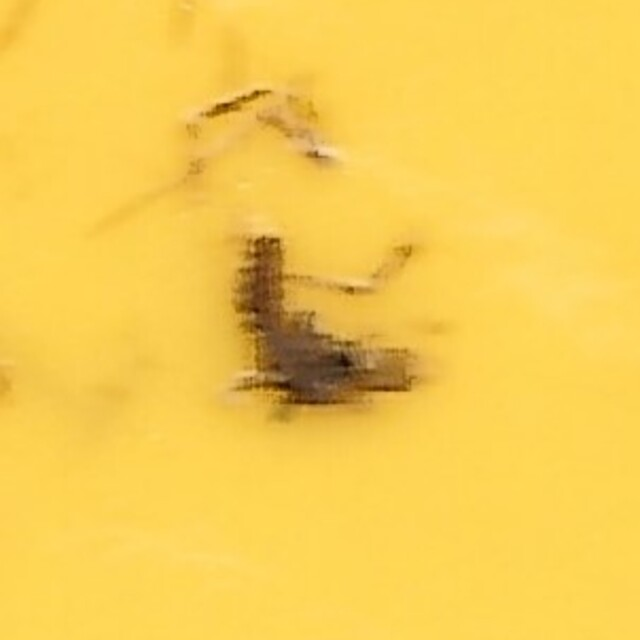Nematocera: (212, 211, 428, 429)
